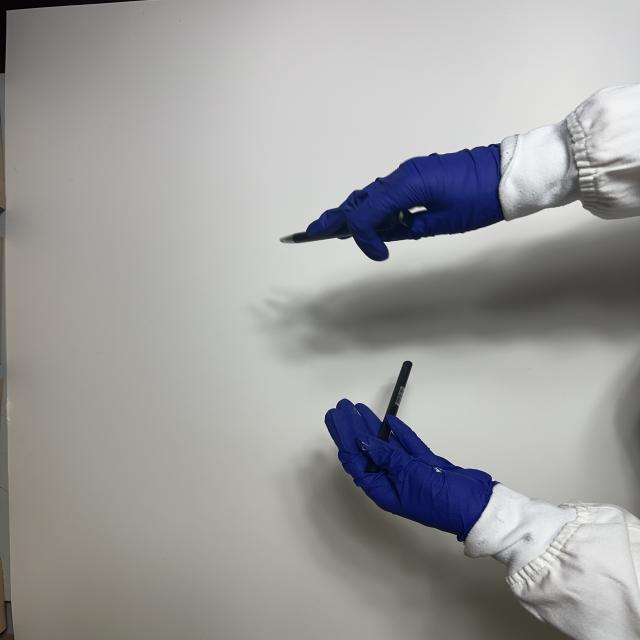gloves_contaminated: (326, 399, 497, 541), (306, 145, 504, 261)
